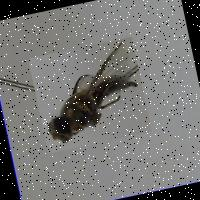Oriental-fruit-fly: (27, 35, 151, 152)
